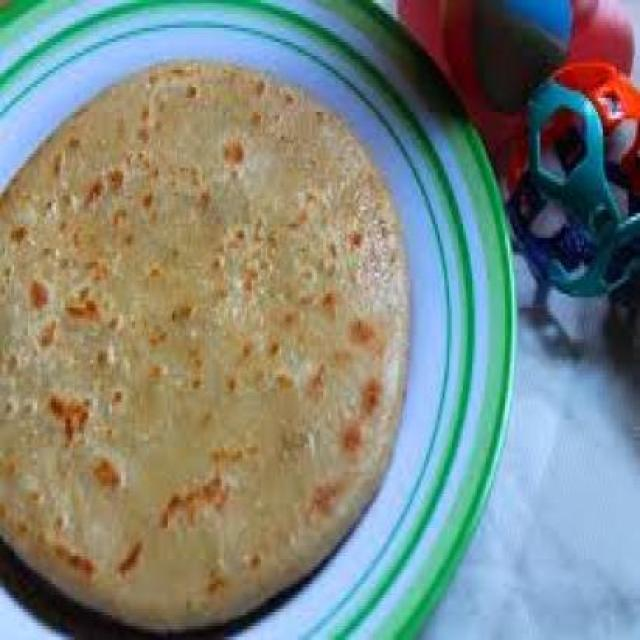alooparatha-chapati: (16, 98, 414, 581)
